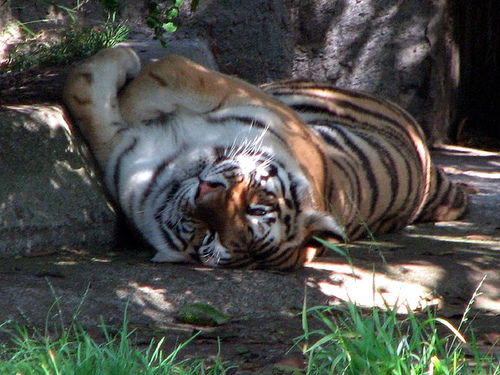Tigre: (82, 50, 478, 273)
